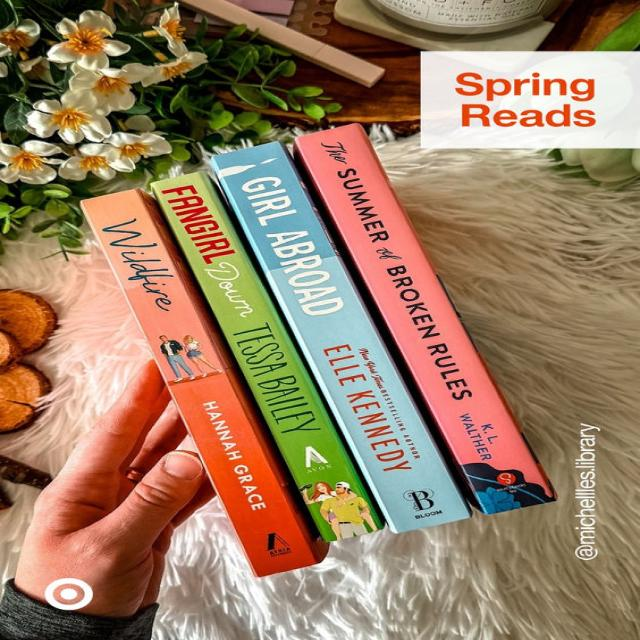book: (293, 123, 560, 515), (212, 141, 474, 533), (79, 188, 316, 576), (151, 171, 385, 542)
